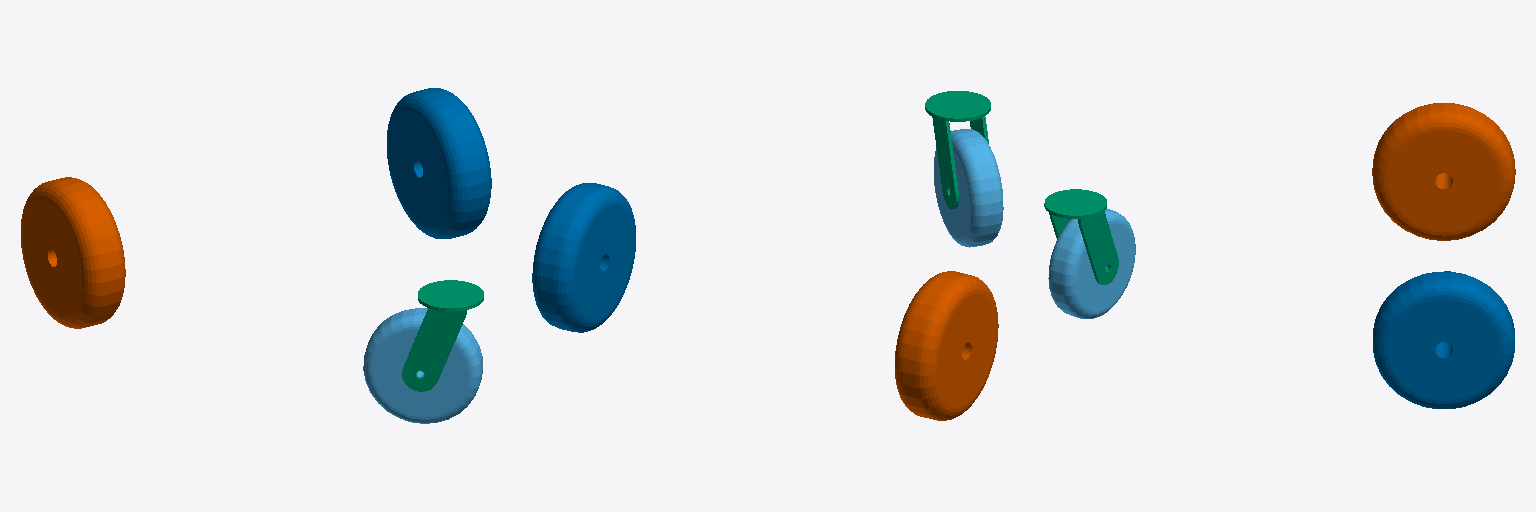
robot.urdf — temp:
<?xml version="1.0" encoding="UTF-8"?>
<robot name="temp">
  <joint name="Revolute_2_01" type="continuous">
    <origin xyz="-0.0452015 0.004609 -0.1223279" rpy="-1.5707965 -0.0862496 2.4779847"/>
    <parent link="caster_pivot_link"/>
    <child link="caster_wheel_link"/>
    <axis xyz="0. 0. 1."/>
  </joint>
  <joint name="caster_pivot_joint" type="continuous">
    <origin xyz="0.0011449 -0.3728886 -0.0307033" rpy="0. 0. -0.0000001"/>
    <parent link="chassis_link"/>
    <child link="caster_pivot_link"/>
    <axis xyz="0. 0. 1."/>
  </joint>
  <joint name="left_wheel_joint" type="continuous">
    <origin xyz="0.2844359 0.1500906 -0.1274171" rpy="0. 0. -0.0000001"/>
    <parent link="chassis_link"/>
    <child link="left_wheel_link"/>
    <axis xyz="1. 0. 0."/>
  </joint>
  <joint name="right_wheel_joint" type="continuous">
    <origin xyz="-0.2918941 0.1492591 -0.1296445" rpy="0. 0. -0.0000001"/>
    <parent link="chassis_link"/>
    <child link="right_wheel_link"/>
    <axis xyz="1. 0. 0."/>
  </joint>
  <joint name="rootJoint" type="fixed">
    <origin xyz="0. 0. 0." rpy="0. 0. 0.0000001"/>
    <parent link="IGVC_bot"/>
    <child link="chassis_link"/>
  </joint>
  <link name="IGVC_bot"/>
  <link name="caster_pivot_link">
    <inertial>
      <origin xyz="-0.0305339 0.0233679 -0.1223279" rpy="0. 0. 0."/>
      <mass value="1.0005643"/>
      <inertia ixx="0.001731" ixy="-0.0000049" ixz="0.0000927" iyy="0.0017285" iyz="-0.0000725" izz="0.0030851"/>
    </inertial>
    <visual>
      <origin xyz="-0.0675162 0.0522845 -0.2321986" rpy="3.1415927 -0.0862496 2.4779847"/>
      <geometry>
        <mesh filename="package://igvc_test_description/meshes/caster_pivot_link__in_Caster__in_Caster.obj" scale="1. 1. 1."/>
      </geometry>
    </visual>
    <collision>
      <origin xyz="-0.0675162 0.0522845 -0.2321986" rpy="3.1415927 -0.0862496 2.4779847"/>
      <geometry>
        <mesh filename="package://igvc_test_description/meshes/caster_pivot_link__in_Caster__in_Caster.obj" scale="1. 1. 1."/>
      </geometry>
    </collision>
  </link>
  <link name="caster_wheel_link">
    <inertial>
      <origin xyz="-0.0181709 -0.0657049 -0.0238125" rpy="0. 0. 0."/>
      <mass value="0.2597675"/>
      <inertia ixx="0.0002418" ixy="-0.0000368" ixz="-0." iyy="0.0006646" iyz="0." izz="0.0005779"/>
    </inertial>
    <visual>
      <origin xyz="-0.0273898 -0.116298 -0.0238125" rpy="-1.5707965 0.0000001 -3.055343 "/>
      <geometry>
        <mesh filename="package://igvc_test_description/meshes/caster_wheel_link_Part_2_Part_2.obj" scale="1. 1. 1."/>
      </geometry>
    </visual>
    <collision>
      <origin xyz="-0.0273898 -0.116298 -0.0238125" rpy="-1.5707965 0.0000001 -3.055343 "/>
      <geometry>
        <mesh filename="package://igvc_test_description/meshes/caster_wheel_link_Part_2_Part_2.obj" scale="1. 1. 1."/>
      </geometry>
    </collision>
  </link>
  <link name="chassis_link">
    <visual>
      <origin xyz="0. 0. 0." rpy="0. 0. -0.0000001"/>
      <geometry>
        <mesh filename="package://igvc_test_description/meshes/_FE2CBA3_2B86_49A6_86C6_46C335366A6A.obj" scale="1. 1. 1."/>
      </geometry>
    </visual>
    <collision>
      <origin xyz="0. 0. 0." rpy="0. 0. -0.0000001"/>
      <geometry>
        <mesh filename="package://igvc_test_description/meshes/_FE2CBA3_2B86_49A6_86C6_46C335366A6A.obj" scale="1. 1. 1."/>
      </geometry>
    </collision>
  </link>
  <link name="left_wheel_link">
    <inertial>
      <origin xyz="-0.0010859 -0.0000906 -0.0010079" rpy="0. 0. 0."/>
      <mass value="2.1118586"/>
      <inertia ixx="0.0059185" ixy="-0." ixz="-0." iyy="0.0086441" iyz="0.0022525" izz="0.00778"/>
    </inertial>
    <visual>
      <origin xyz="-0.0010859 -0.0000906 -0.0010079" rpy="0. 0.8801533 1.5707964"/>
      <geometry>
        <mesh filename="package://igvc_test_description/meshes/left_wheel_link__in_Wheel_Stand_In_01__in_Wheel_Stand_In.obj" scale="1. 1. 1."/>
      </geometry>
    </visual>
    <collision>
      <origin xyz="-0.0010859 -0.0000906 -0.0010079" rpy="0. 0.8801533 1.5707964"/>
      <geometry>
        <mesh filename="package://igvc_test_description/meshes/left_wheel_link__in_Wheel_Stand_In_01__in_Wheel_Stand_In.obj" scale="1. 1. 1."/>
      </geometry>
    </collision>
  </link>
  <link name="right_wheel_link">
    <inertial>
      <origin xyz="0.0085441 0.0007409 0.0012195" rpy="0. 0. 0."/>
      <mass value="2.1118586"/>
      <inertia ixx="0.0059185" ixy="-0." ixz="0." iyy="0.0059185" iyz="-0." izz="0.0105056"/>
    </inertial>
    <visual>
      <origin xyz="0.0085441 0.0007409 0.0012195" rpy="3.1415927 0. -1.5707964"/>
      <geometry>
        <mesh filename="package://igvc_test_description/meshes/right_wheel_link__in_Wheel_Stand_In_01__in_Wheel_Stand_In.obj" scale="1. 1. 1."/>
      </geometry>
    </visual>
    <collision>
      <origin xyz="0.0085441 0.0007409 0.0012195" rpy="3.1415927 0. -1.5707964"/>
      <geometry>
        <mesh filename="package://igvc_test_description/meshes/right_wheel_link__in_Wheel_Stand_In_01__in_Wheel_Stand_In.obj" scale="1. 1. 1."/>
      </geometry>
    </collision>
  </link>
</robot>

--- Facts derived from the render (not from the file) ---
Views: 3 orthographic renders of the robot side by side, from view 1: azimuth 30°, elevation 25°; view 2: azimuth 150°, elevation 25°; view 3: azimuth 270°, elevation 25°.
Model temp with 6 links and 5 joints (4 continuous, 1 fixed), rooted at IGVC_bot, posed every joint at zero.
Visible links, largest first — view 1: left_wheel_link, right_wheel_link, caster_pivot_link, caster_wheel_link; view 2: left_wheel_link, right_wheel_link, caster_pivot_link, caster_wheel_link; view 3: right_wheel_link, left_wheel_link, caster_pivot_link, caster_wheel_link.
Boxes of the visible links, <box> form: left_wheel_link: <box>387,88,491,238</box>; right_wheel_link: <box>21,177,125,328</box>; caster_pivot_link: <box>363,308,482,423</box>; caster_wheel_link: <box>402,280,483,391</box>; left_wheel_link: <box>532,183,635,332</box>; right_wheel_link: <box>895,271,998,420</box>; caster_pivot_link: <box>934,129,1003,247</box>; caster_wheel_link: <box>925,91,990,209</box>; right_wheel_link: <box>1372,103,1515,240</box>; left_wheel_link: <box>1373,271,1514,408</box>; caster_pivot_link: <box>1048,209,1135,318</box>; caster_wheel_link: <box>1044,189,1118,284</box>.
Size in the robot's own frame: 0.6307 by 0.6688 by 0.2064 metres.
Meshes: 5 distinct files referenced, 4 mesh visuals loaded (4 OBJ); not drawn: 1 (reference not matched to a file when rendering).
